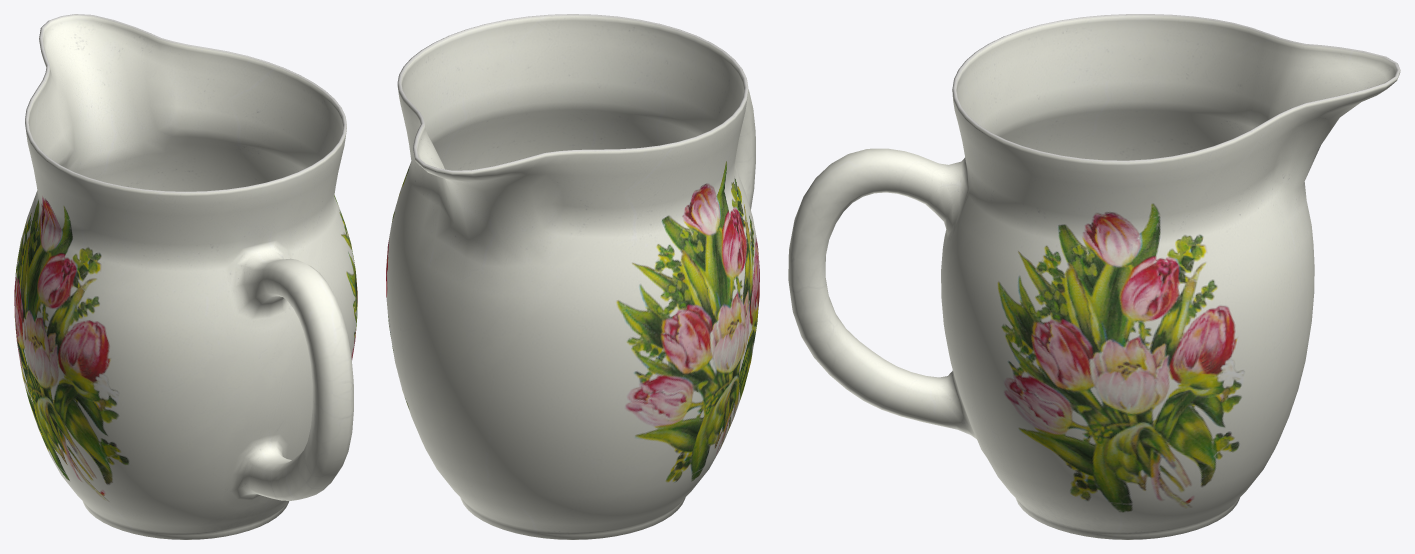
The picture shows the model from 3 angles, left to right: view 1: azimuth 30°, elevation 25°; view 2: azimuth 150°, elevation 25°; view 3: azimuth 270°, elevation 25°; orthographic projection. The views are drawn at different scales.
Parts seen in each view (by area): view 1: Cylinder; view 2: Cylinder; view 3: Cylinder.
Part boxes in pixels (x1=…): Cylinder: x1=14, y1=14, x2=357, y2=539; Cylinder: x1=386, y1=14, x2=759, y2=539; Cylinder: x1=788, y1=14, x2=1400, y2=539.
Bounding box in the file's own units: 0.1675 × 0.2099 × 0.2748.
1 material, 1 textured.
